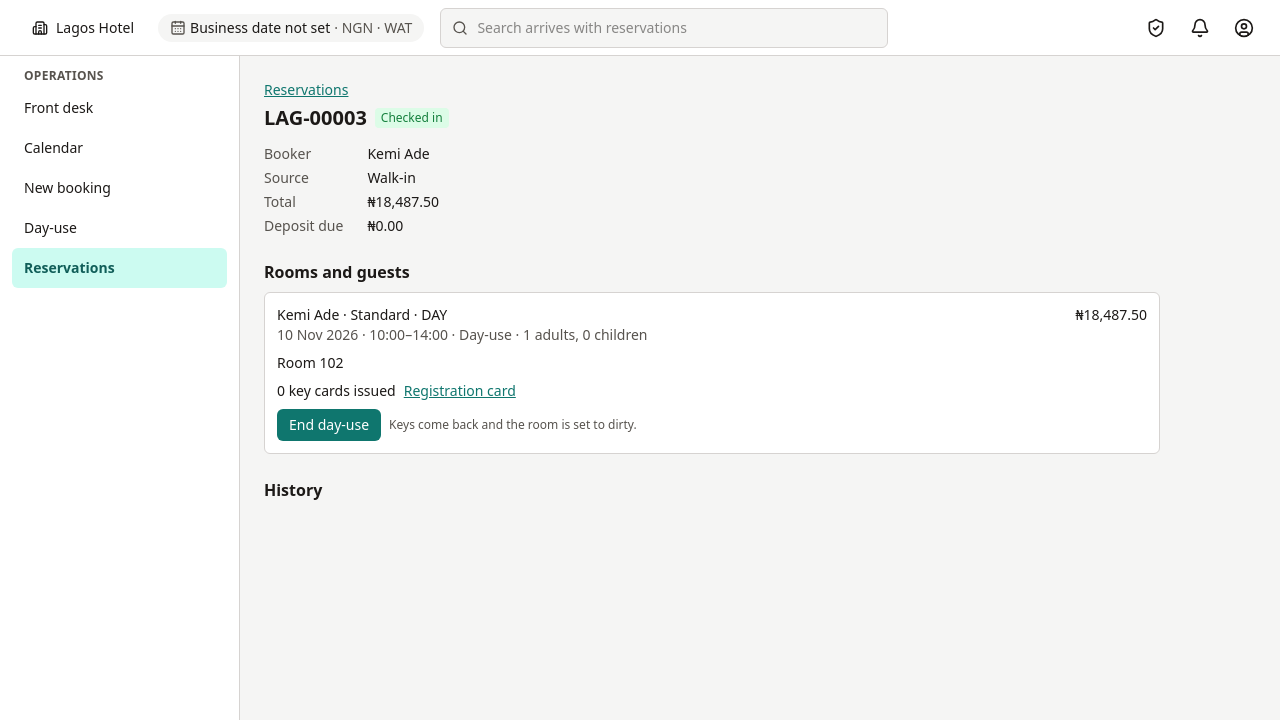
Test: Day-use (M3-10) › ends a checked-in day-use: the stay closes and the room needs cleaning
Check: the text "Room 102" is shown, box left=277, top=353, right=343, bottom=372
Click the button "End day-use" at (329,425), box left=277, top=409, right=381, bottom=441
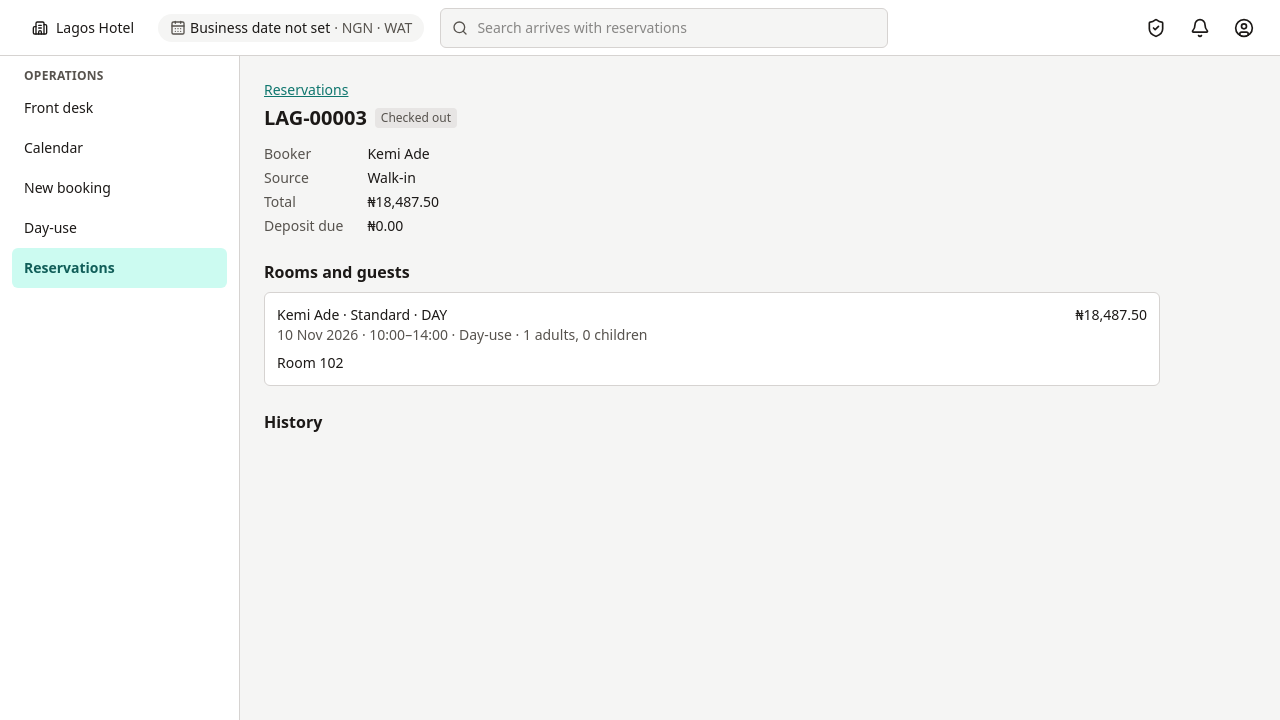
Check: the button "End day-use" is gone
